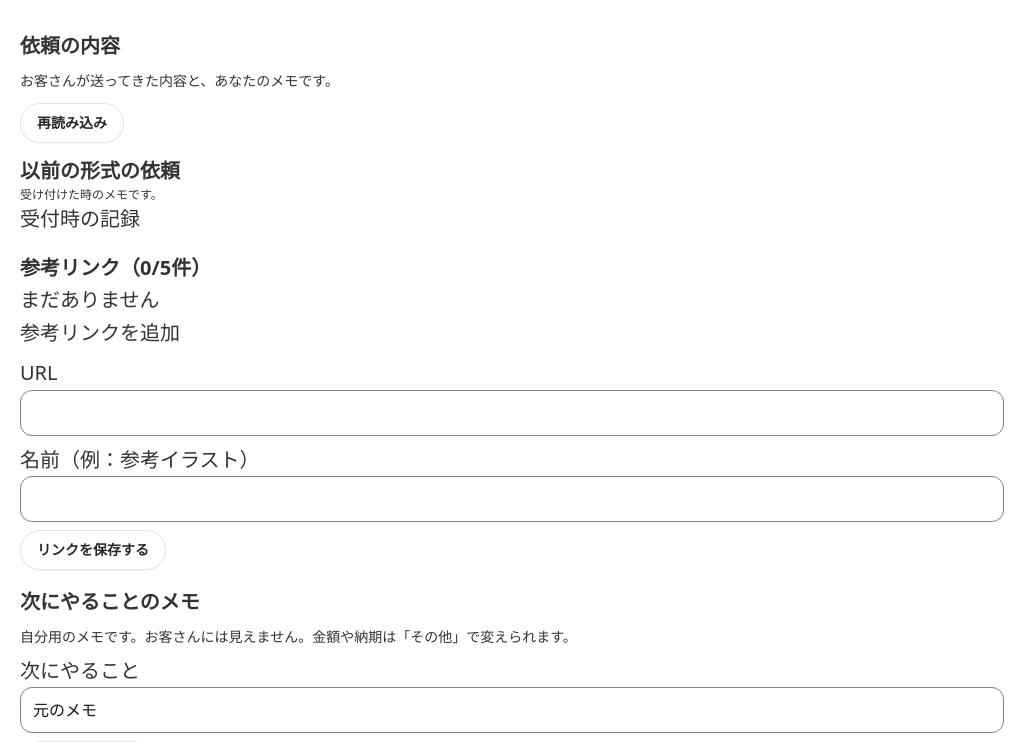
Test case: reopens editing after a saved operation is closed and its newer source is explicitly fetched
The width and height of the screenshot is (1024, 742).
Replace the text in the field labelled "次にやること" with "保存したメモ". click: (512, 710)
box: [20,687,1004,733]
(page scrolled)
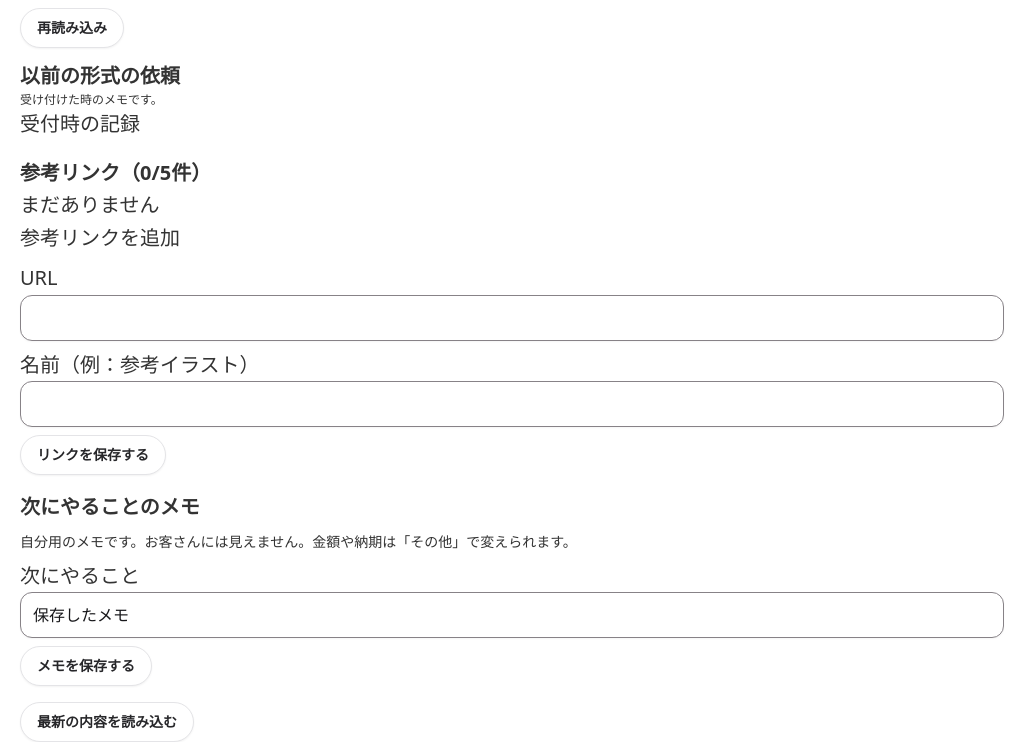
Click the button "メモを保存する". click: (86, 666)
box: [20,646,152,686]
(page scrolled)
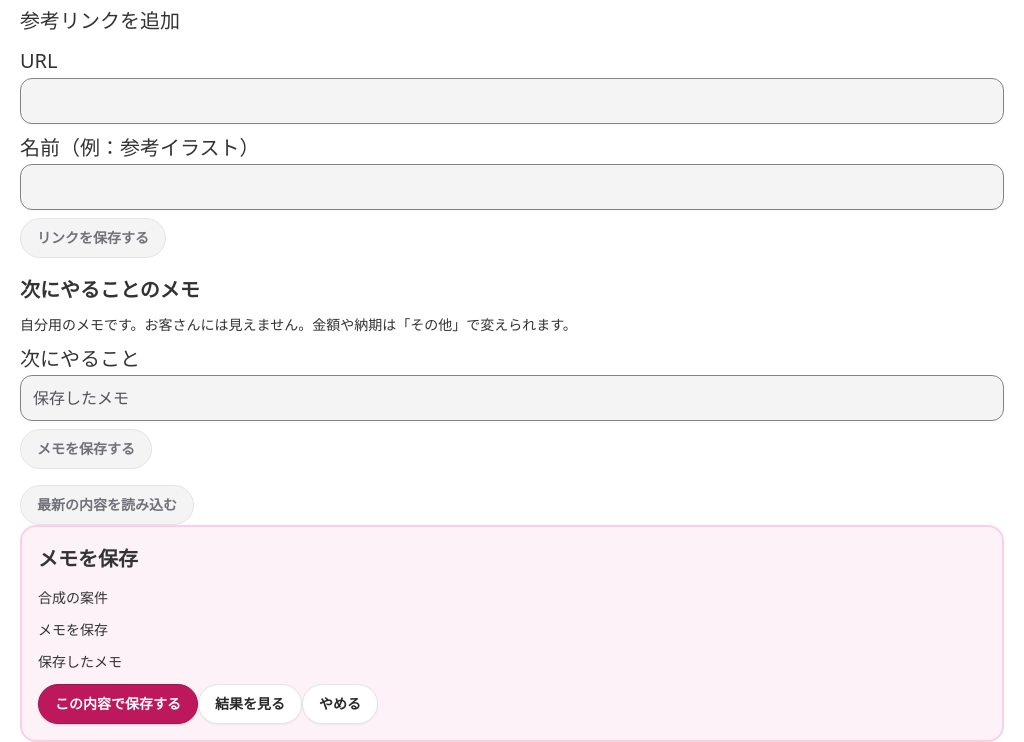
Click the button "この内容で保存する". click: (118, 704)
box: [38,684,198,724]
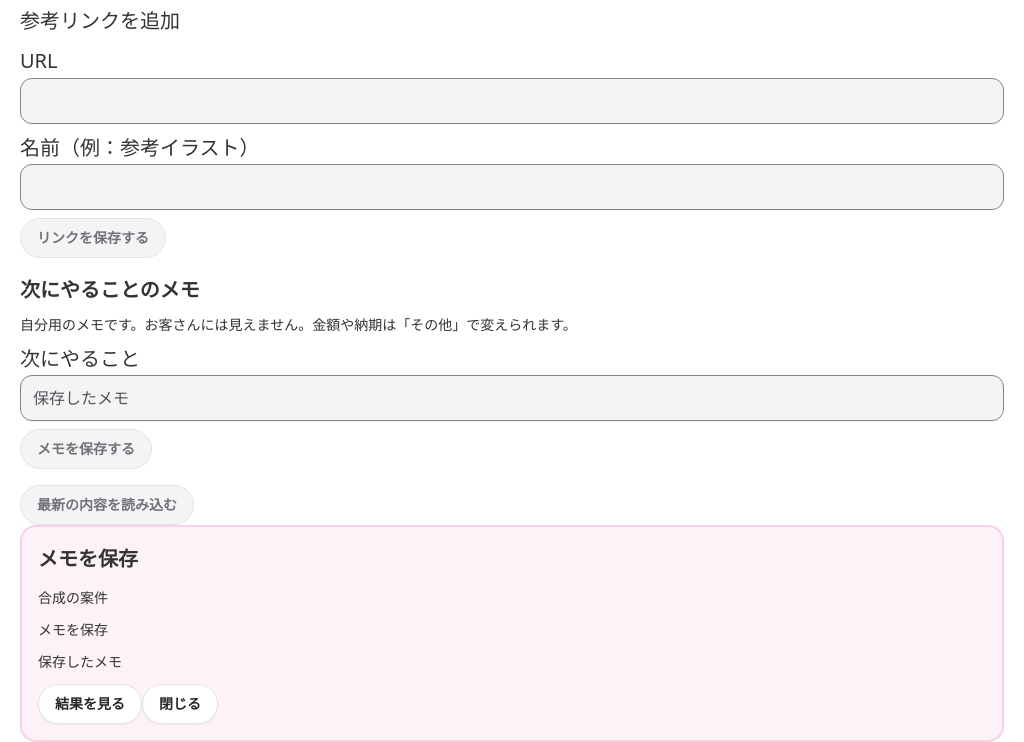
Check: the button "閉じる" is enabled
Click the button "閉じる". click: (180, 704)
box: [142,684,218,724]
(page scrolled)
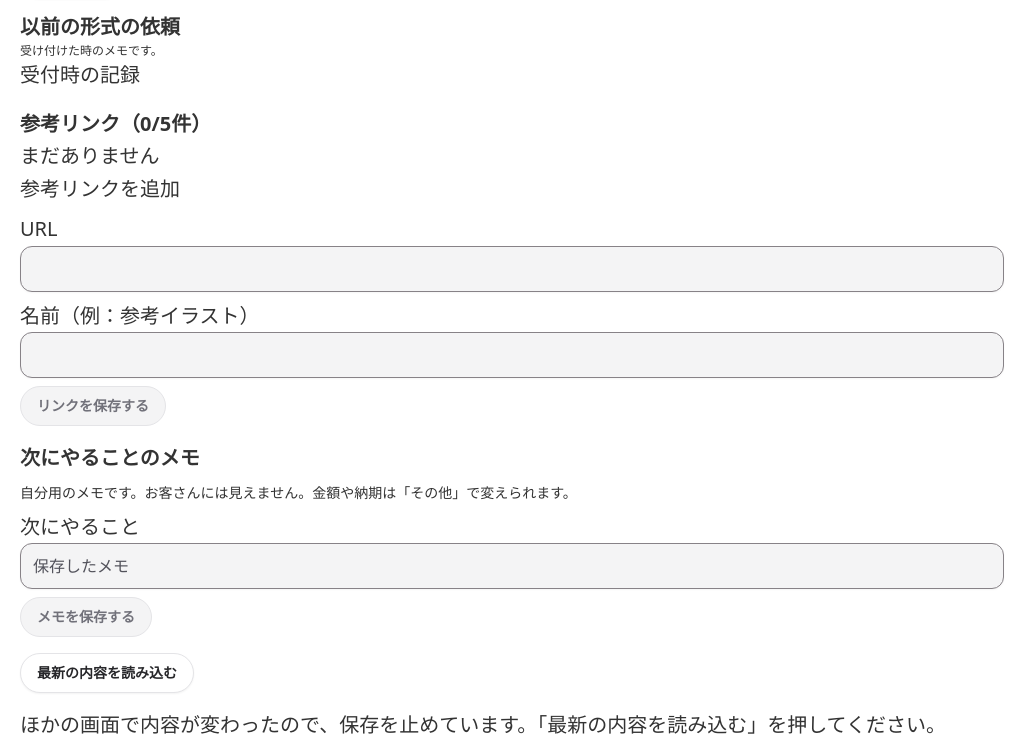
Check: the button "最新の内容を読み込む" is enabled
Click the button "最新の内容を読み込む". click: (107, 673)
box: [20,653,194,693]
(page scrolled)
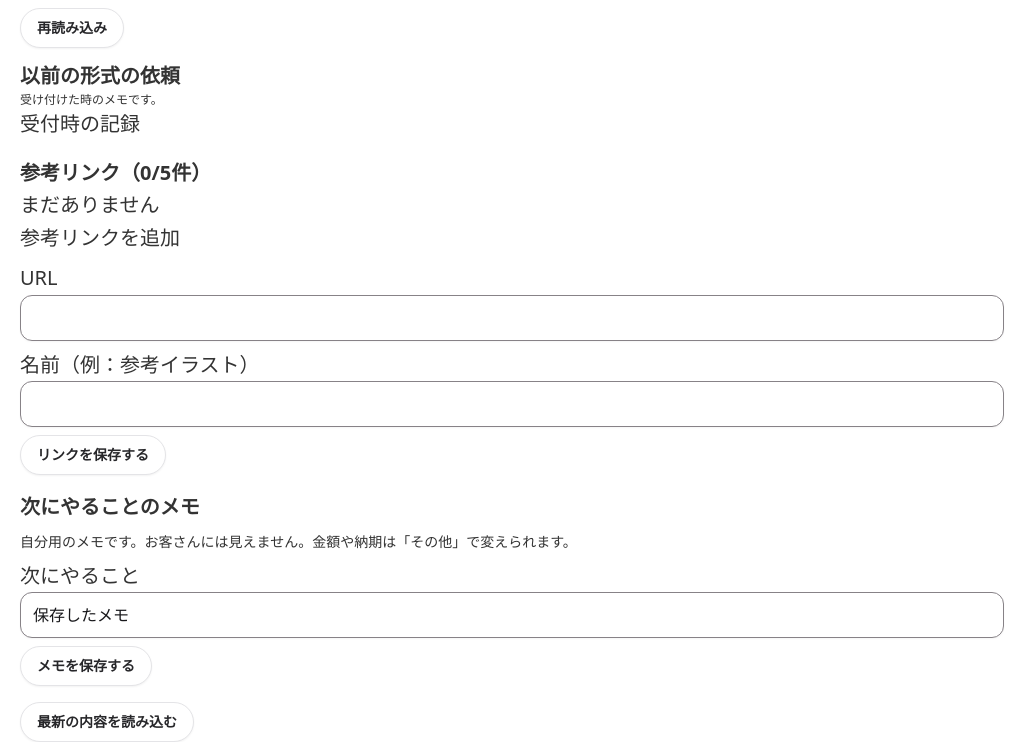
Check: the element labelled "次にやること" is enabled, box [20,491,1004,686]
Check: the text "保存を止めています" is gone
